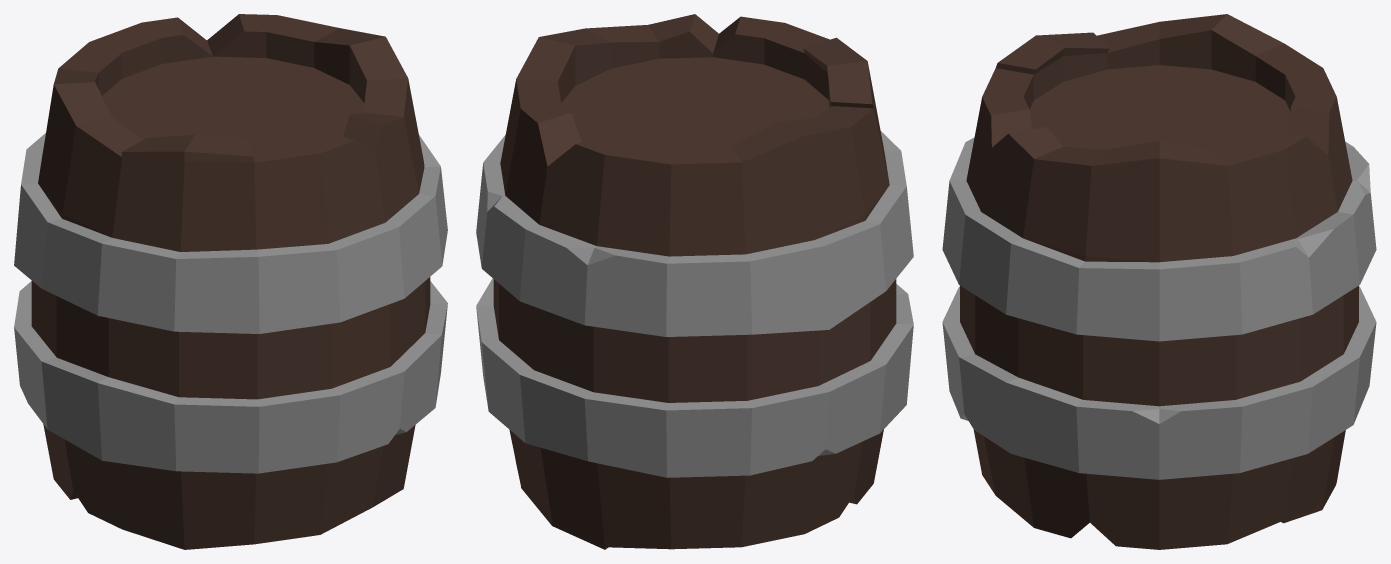
The model's file is BarrelTree.fbx.
The picture shows the model from 3 angles, left to right: view 1: azimuth 30°, elevation 25°; view 2: azimuth 150°, elevation 25°; view 3: azimuth 270°, elevation 25°; orthographic projection.
Visible parts, largest first — view 1: Cylinder, Cylinder.001; view 2: Cylinder, Cylinder.001; view 3: Cylinder, Cylinder.001.
Part boxes in pixels (left/top/right/bottom): Cylinder: left=31, top=14, right=430, bottom=549; Cylinder.001: left=14, top=133, right=447, bottom=473; Cylinder: left=493, top=14, right=896, bottom=549; Cylinder.001: left=476, top=131, right=913, bottom=477; Cylinder: left=960, top=14, right=1358, bottom=549; Cylinder.001: left=942, top=137, right=1376, bottom=479.
Size of the model in its own units: 245 by 250 by 245.
